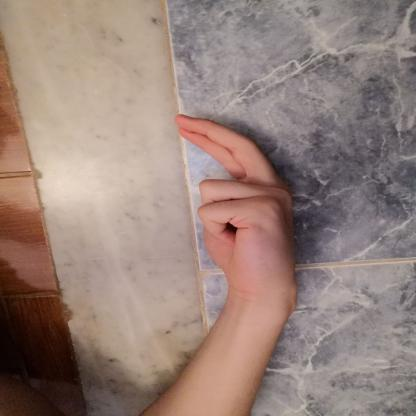ZAY: (160, 106, 309, 303)
